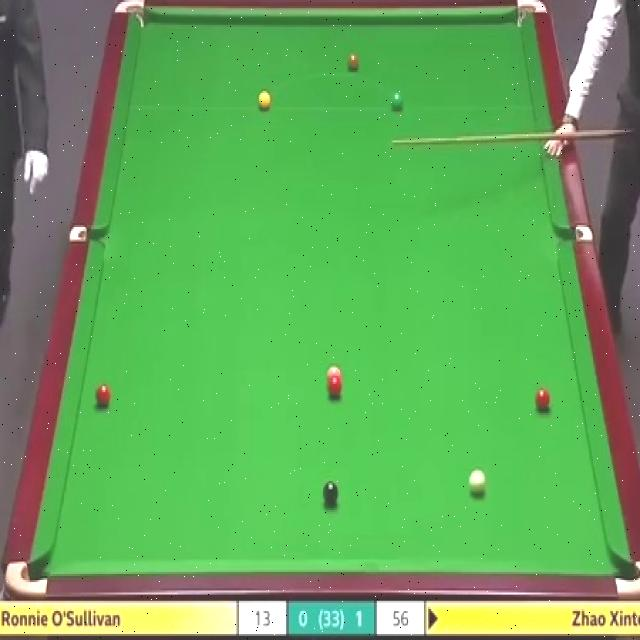black-ball: (322, 481, 339, 508)
brown-ball: (347, 52, 359, 73)
green-ball: (390, 90, 403, 111)
pink-ball: (326, 366, 342, 380)
red-ball: (95, 381, 112, 409), (534, 386, 551, 412), (326, 377, 343, 398)
white-ball: (467, 470, 485, 496)
yellow-ball: (260, 92, 273, 112)
